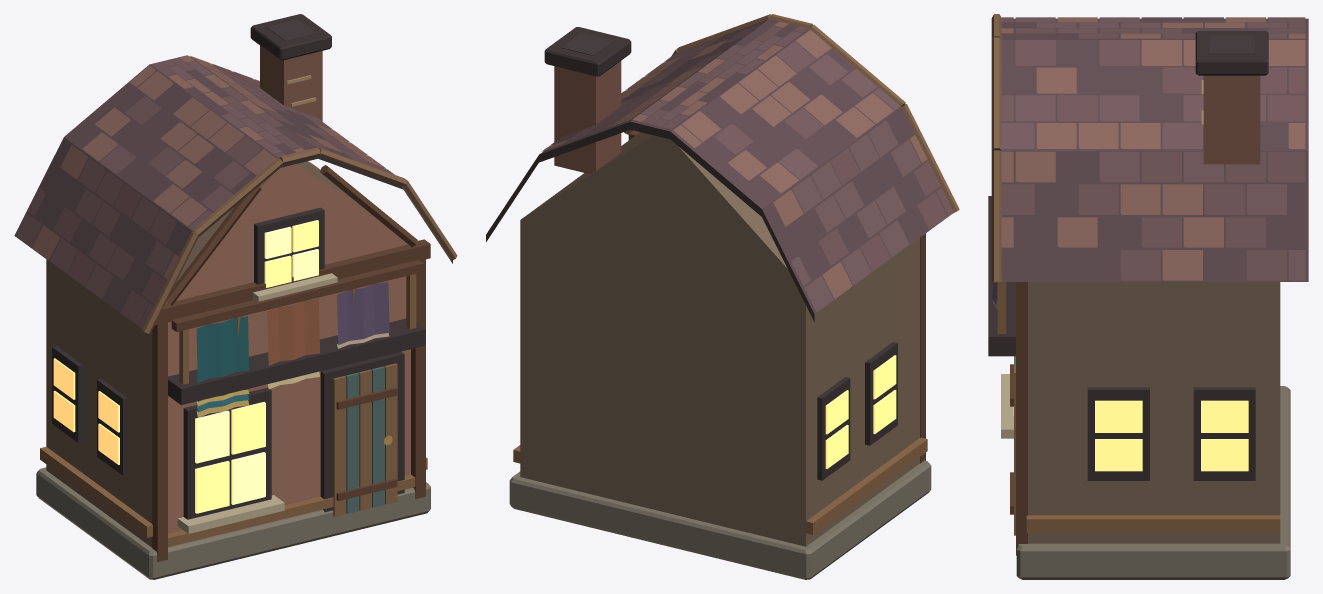
Rendered from dyer_house.glb.
3 renders of one model, left to right at view 1: azimuth 30°, elevation 25°; view 2: azimuth 150°, elevation 25°; view 3: azimuth 270°, elevation 25°, orthographic. The views are drawn at different scales.
Parts seen in each view (by area): view 1: House and drying rail, Drying linen; view 2: House and drying rail; view 3: House and drying rail.
Boxes of the visible parts, box(x1,y1,x2,y2) form: House and drying rail: box(14, 14, 457, 579); Drying linen: box(196, 282, 389, 417); House and drying rail: box(486, 14, 959, 579); House and drying rail: box(988, 14, 1308, 579).
Size of the model in its own units: 2.34 by 3.06 by 1.75.
